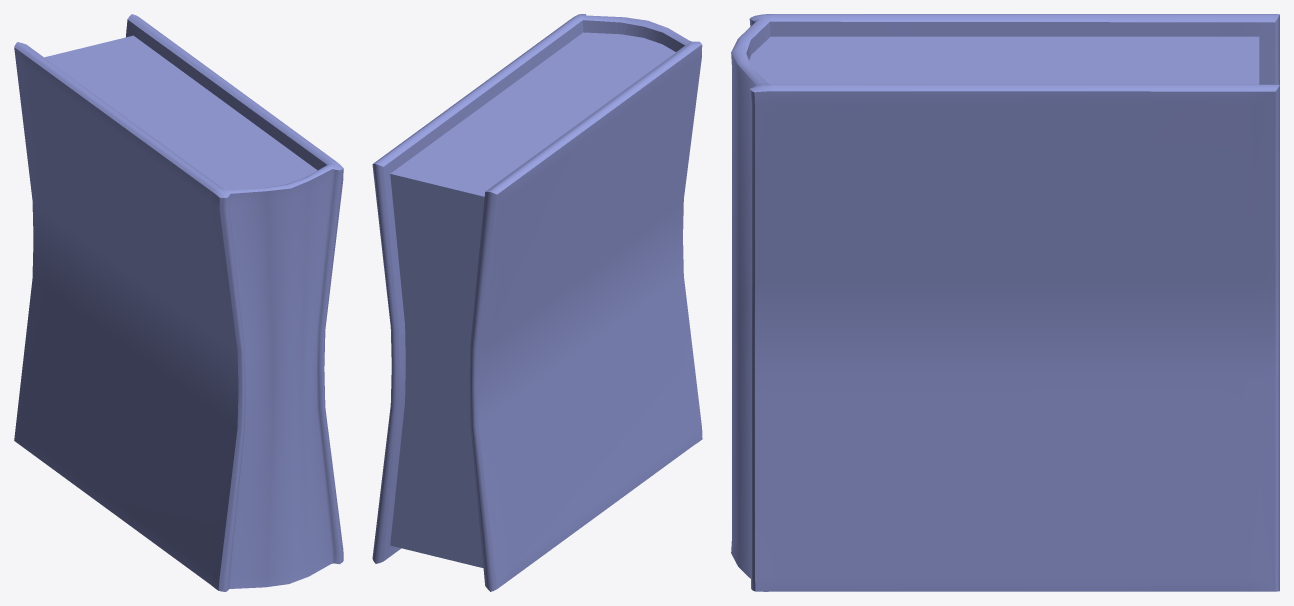
Rendered from HD_Book_Fat.fbx.
3 views of the same model, side by side, from view 1: azimuth 30°, elevation 25°; view 2: azimuth 150°, elevation 25°; view 3: azimuth 270°, elevation 25° (orthographic). The views are drawn at different scales.
Parts seen in each view (by area): view 1: HD_Book_S; view 2: HD_Book_S; view 3: HD_Book_S.
Part boxes in pixels (x1=…): HD_Book_S: x1=14, y1=14, x2=343, y2=591; HD_Book_S: x1=372, y1=14, x2=702, y2=591; HD_Book_S: x1=731, y1=14, x2=1279, y2=591.
Bounding box in the file's own units: 0.0884 × 0.27 × 0.265.
